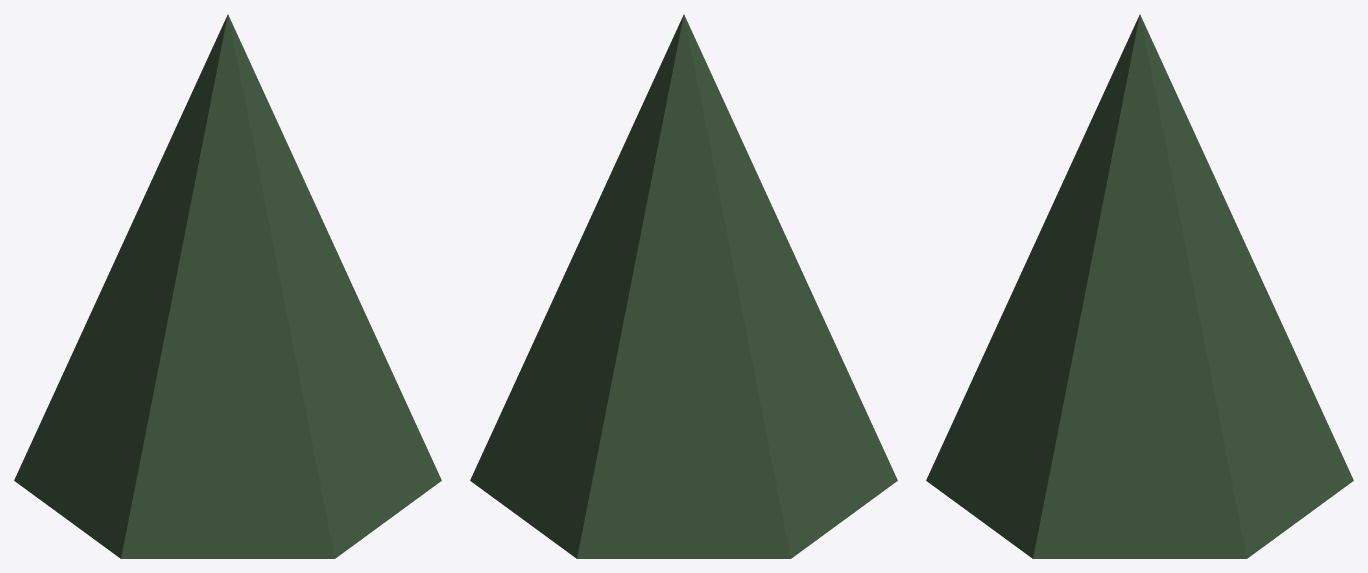
Rendered from nature_pine_a_lod2.glb.
3 views of the same model, side by side, from view 1: azimuth 30°, elevation 25°; view 2: azimuth 150°, elevation 25°; view 3: azimuth 270°, elevation 25° (orthographic).
Visible parts, largest first — view 1: nature_pine_a_lod2; view 2: nature_pine_a_lod2; view 3: nature_pine_a_lod2.
Part boxes in pixels (left/top/right/bottom): nature_pine_a_lod2: left=14, top=14, right=441, bottom=558; nature_pine_a_lod2: left=470, top=14, right=897, bottom=558; nature_pine_a_lod2: left=926, top=14, right=1353, bottom=558.
Size of the model in its own units: 4.43 by 6.16 by 5.12.
